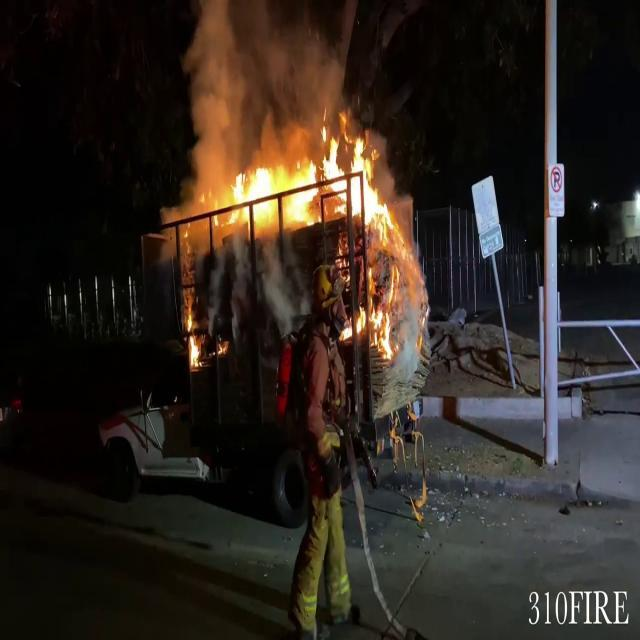Fire: (214, 115, 392, 239), (325, 115, 402, 350), (184, 299, 202, 372)
Smoke: (177, 0, 340, 170)
